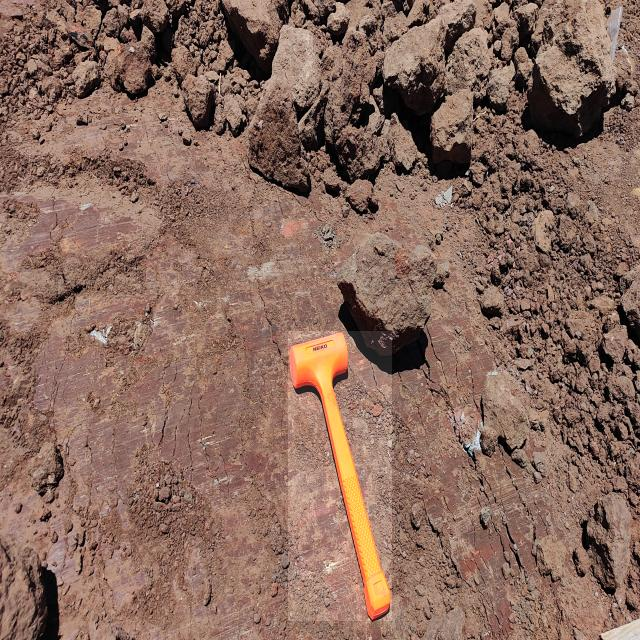Orange_hammer: (288, 331, 392, 621)
